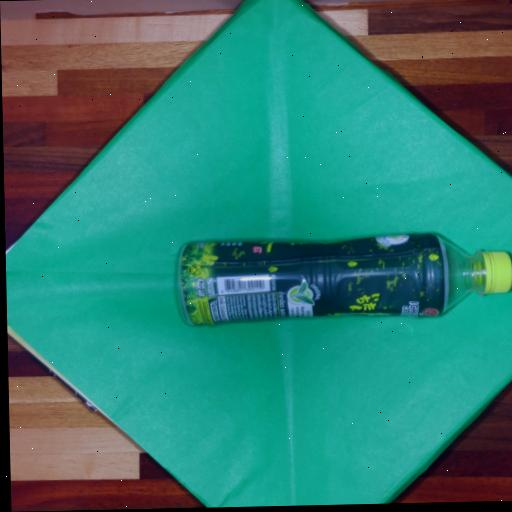bottle: (159, 212, 512, 350)
